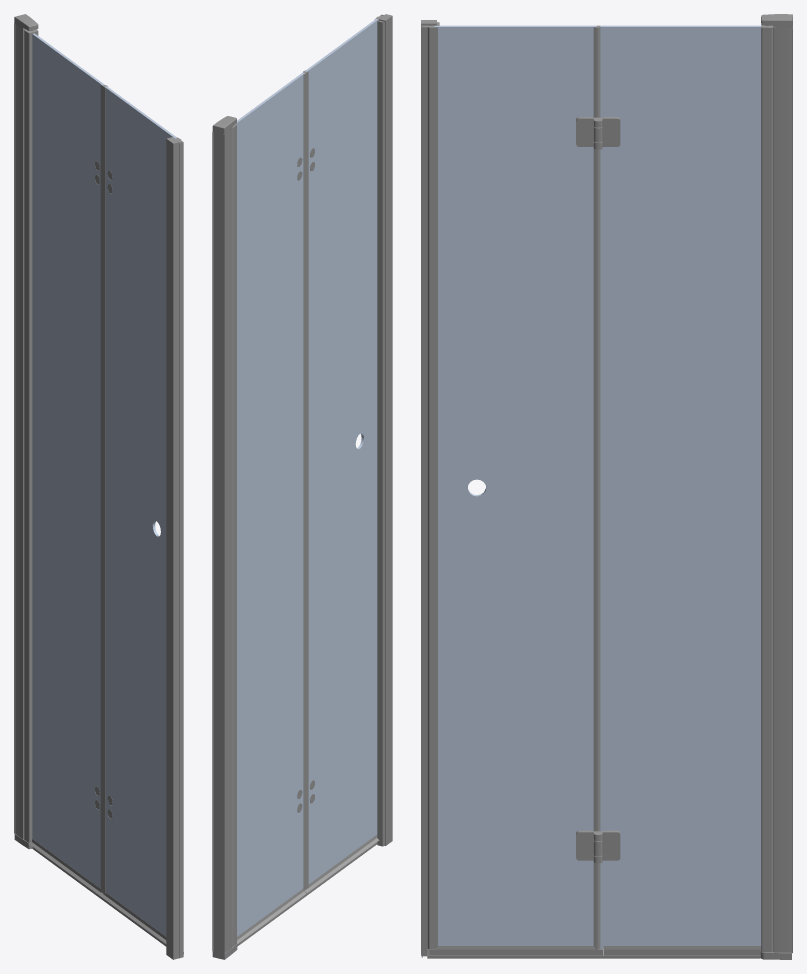
The model's file is Sanitary_Shower-screens_Alterna_LussoShowerwall-straight-foldingdoors-70.fbx.
3 views of the same model, side by side, from view 1: azimuth 30°, elevation 25°; view 2: azimuth 150°, elevation 25°; view 3: azimuth 270°, elevation 25° (orthographic). The views are drawn at different scales.
Visible parts, largest first — view 1: Mesh_13_81ccec99_3c00_4b55_a3b6_e920f6b9a0d4, Mesh_9_1cc14a6e_6f94_4c3f_aea6_773ae431b8c6, Mesh_1_b37efca8_d5d9_483a_9f22_18c861144130, Mesh_15_59cf2323_6cae_4330_a141_4fcdf69fb59d, Mesh_7_1c7adbda_ae8d_4f7d_87ba_3a50c059a75b, Mesh_5_01d67287_6b2d_4d50_9c16_fda7d656ac61, Mesh_3_d85d76a6_0c01_48b4_8df8_d7ad6bae0643; view 2: Mesh_9_1cc14a6e_6f94_4c3f_aea6_773ae431b8c6, Mesh_13_81ccec99_3c00_4b55_a3b6_e920f6b9a0d4, Mesh_1_b37efca8_d5d9_483a_9f22_18c861144130, Mesh_7_1c7adbda_ae8d_4f7d_87ba_3a50c059a75b, Mesh_15_59cf2323_6cae_4330_a141_4fcdf69fb59d, Mesh_5_01d67287_6b2d_4d50_9c16_fda7d656ac61, Mesh_3_d85d76a6_0c01_48b4_8df8_d7ad6bae0643; view 3: Mesh_13_81ccec99_3c00_4b55_a3b6_e920f6b9a0d4, Mesh_9_1cc14a6e_6f94_4c3f_aea6_773ae431b8c6, Mesh_7_1c7adbda_ae8d_4f7d_87ba_3a50c059a75b, Mesh_1_b37efca8_d5d9_483a_9f22_18c861144130, Mesh_15_59cf2323_6cae_4330_a141_4fcdf69fb59d, Mesh_5_01d67287_6b2d_4d50_9c16_fda7d656ac61, Mesh_11_485ad0f5_2cc2_4026_82e7_90f1ab8ff5db, Mesh_3_d85d76a6_0c01_48b4_8df8_d7ad6bae0643.
Boxes of the visible parts, x1=… form: Mesh_13_81ccec99_3c00_4b55_a3b6_e920f6b9a0d4: x1=32, y1=33, x2=104, y2=888; Mesh_9_1cc14a6e_6f94_4c3f_aea6_773ae431b8c6: x1=104, y1=86, x2=177, y2=936; Mesh_1_b37efca8_d5d9_483a_9f22_18c861144130: x1=14, y1=23, x2=183, y2=959; Mesh_15_59cf2323_6cae_4330_a141_4fcdf69fb59d: x1=24, y1=29, x2=38, y2=842; Mesh_7_1c7adbda_ae8d_4f7d_87ba_3a50c059a75b: x1=100, y1=84, x2=182, y2=894; Mesh_5_01d67287_6b2d_4d50_9c16_fda7d656ac61: x1=29, y1=839, x2=166, y2=946; Mesh_3_d85d76a6_0c01_48b4_8df8_d7ad6bae0643: x1=14, y1=14, x2=183, y2=953; Mesh_9_1cc14a6e_6f94_4c3f_aea6_773ae431b8c6: x1=305, y1=19, x2=378, y2=883; Mesh_13_81ccec99_3c00_4b55_a3b6_e920f6b9a0d4: x1=236, y1=72, x2=304, y2=936; Mesh_1_b37efca8_d5d9_483a_9f22_18c861144130: x1=212, y1=14, x2=392, y2=954; Mesh_7_1c7adbda_ae8d_4f7d_87ba_3a50c059a75b: x1=303, y1=15, x2=382, y2=890; Mesh_15_59cf2323_6cae_4330_a141_4fcdf69fb59d: x1=232, y1=124, x2=236, y2=946; Mesh_5_01d67287_6b2d_4d50_9c16_fda7d656ac61: x1=237, y1=834, x2=379, y2=946; Mesh_3_d85d76a6_0c01_48b4_8df8_d7ad6bae0643: x1=212, y1=14, x2=392, y2=959; Mesh_13_81ccec99_3c00_4b55_a3b6_e920f6b9a0d4: x1=600, y1=25, x2=761, y2=948; Mesh_9_1cc14a6e_6f94_4c3f_aea6_773ae431b8c6: x1=434, y1=25, x2=596, y2=945; Mesh_7_1c7adbda_ae8d_4f7d_87ba_3a50c059a75b: x1=422, y1=25, x2=600, y2=956; Mesh_1_b37efca8_d5d9_483a_9f22_18c861144130: x1=421, y1=22, x2=792, y2=957; Mesh_15_59cf2323_6cae_4330_a141_4fcdf69fb59d: x1=761, y1=25, x2=773, y2=952; Mesh_5_01d67287_6b2d_4d50_9c16_fda7d656ac61: x1=427, y1=946, x2=761, y2=955; Mesh_11_485ad0f5_2cc2_4026_82e7_90f1ab8ff5db: x1=576, y1=117, x2=620, y2=863; Mesh_3_d85d76a6_0c01_48b4_8df8_d7ad6bae0643: x1=421, y1=14, x2=792, y2=959.
Size of the model in its own units: 44.75 by 700 by 1952.
